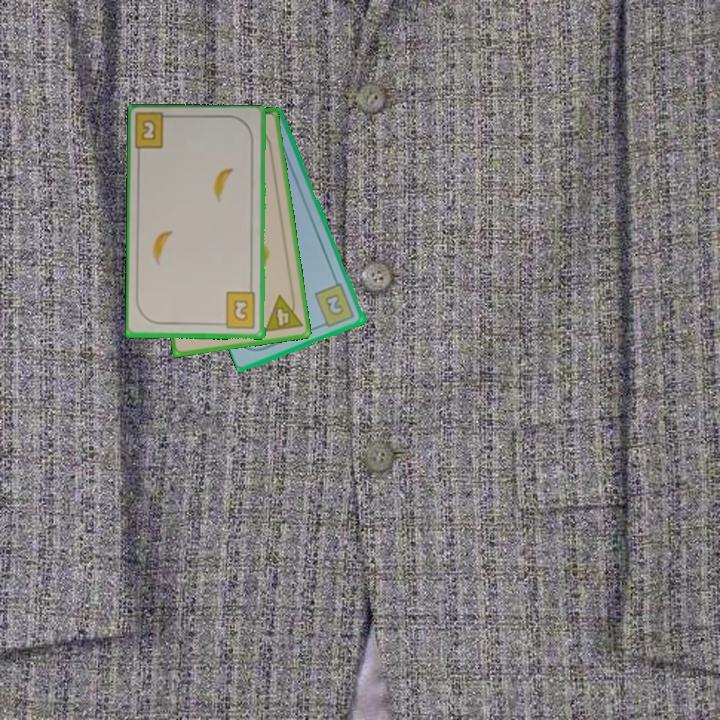2b: (311, 280, 358, 330), (132, 112, 177, 154), (216, 289, 258, 332)
4p: (261, 290, 305, 335)
